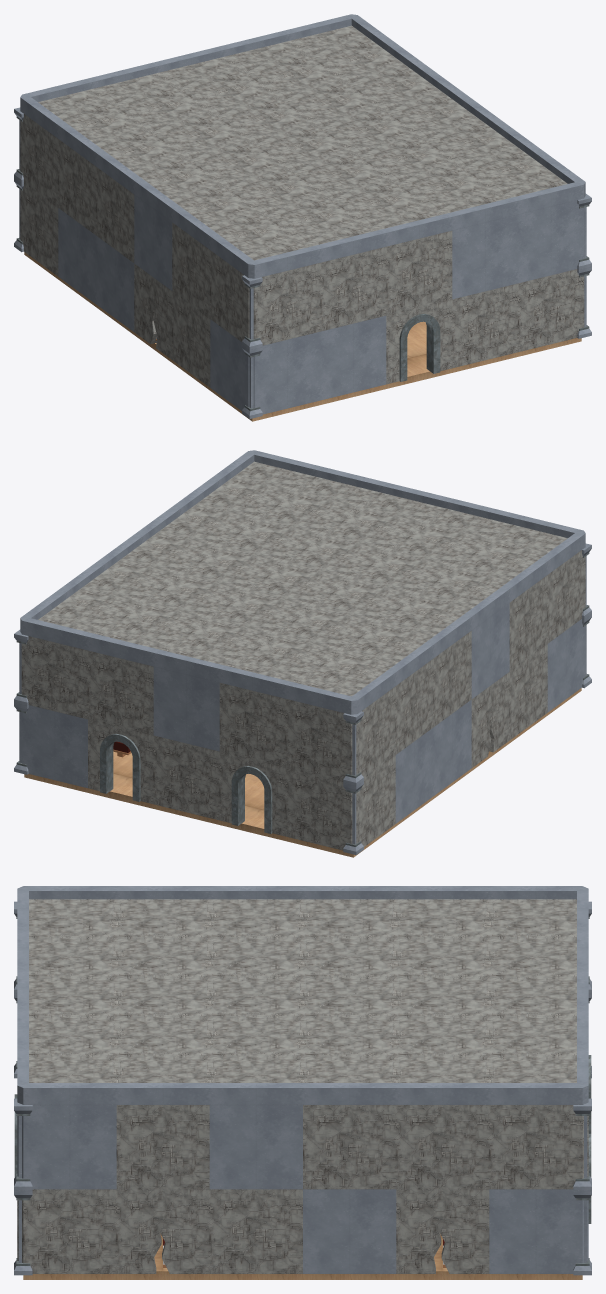
The model's file is Barracks_AF.obj.
The picture shows the model from 3 angles, top to bottom: view 1: azimuth 30°, elevation 25°; view 2: azimuth 150°, elevation 25°; view 3: azimuth 270°, elevation 25°; orthographic projection. The views are drawn at different scales.
Parts seen in each view (by area): view 1: mergedBlocks; view 2: mergedBlocks; view 3: mergedBlocks.
Part boxes in pixels (left/top/right/bottom): mergedBlocks: left=14, top=14, right=591, bottom=421; mergedBlocks: left=14, top=450, right=591, bottom=857; mergedBlocks: left=14, top=886, right=591, bottom=1279.
Bounding box in the file's own units: 5.2 × 2.3 × 6.2.
